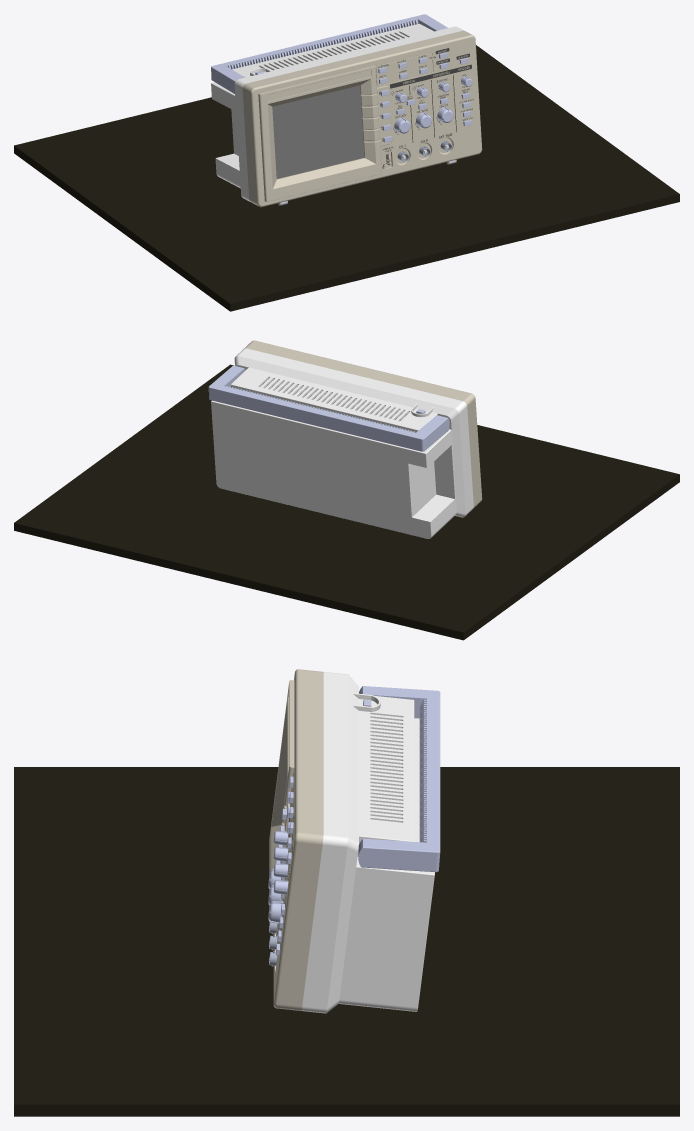
The picture shows the model from 3 angles, top to bottom: view 1: azimuth 30°, elevation 25°; view 2: azimuth 150°, elevation 25°; view 3: azimuth 270°, elevation 25°; orthographic projection. The views are drawn at different scales.
Parts seen in each view (by area): view 1: table, frontPanel, screen, backPane, handle; view 2: table, backPane, handle, frontPanel; view 3: table, backPane, frontPanel, handle.
Boxes of the visible parts, left/top/right/bottom form: table: left=14, top=45, right=679, bottom=311; frontPanel: left=242, top=30, right=482, bottom=207; screen: left=272, top=85, right=364, bottom=178; backPane: left=211, top=23, right=463, bottom=201; handle: left=211, top=14, right=447, bottom=93; table: left=14, top=364, right=679, bottom=640; backPane: left=211, top=348, right=473, bottom=538; handle: left=208, top=365, right=449, bottom=451; frontPanel: left=244, top=340, right=482, bottom=508; table: left=14, top=767, right=679, bottom=1116; backPane: left=301, top=672, right=434, bottom=1013; frontPanel: left=269, top=669, right=323, bottom=1010; handle: left=358, top=686, right=440, bottom=872.
Bounding box in the file's own units: 600 × 163 × 500.
